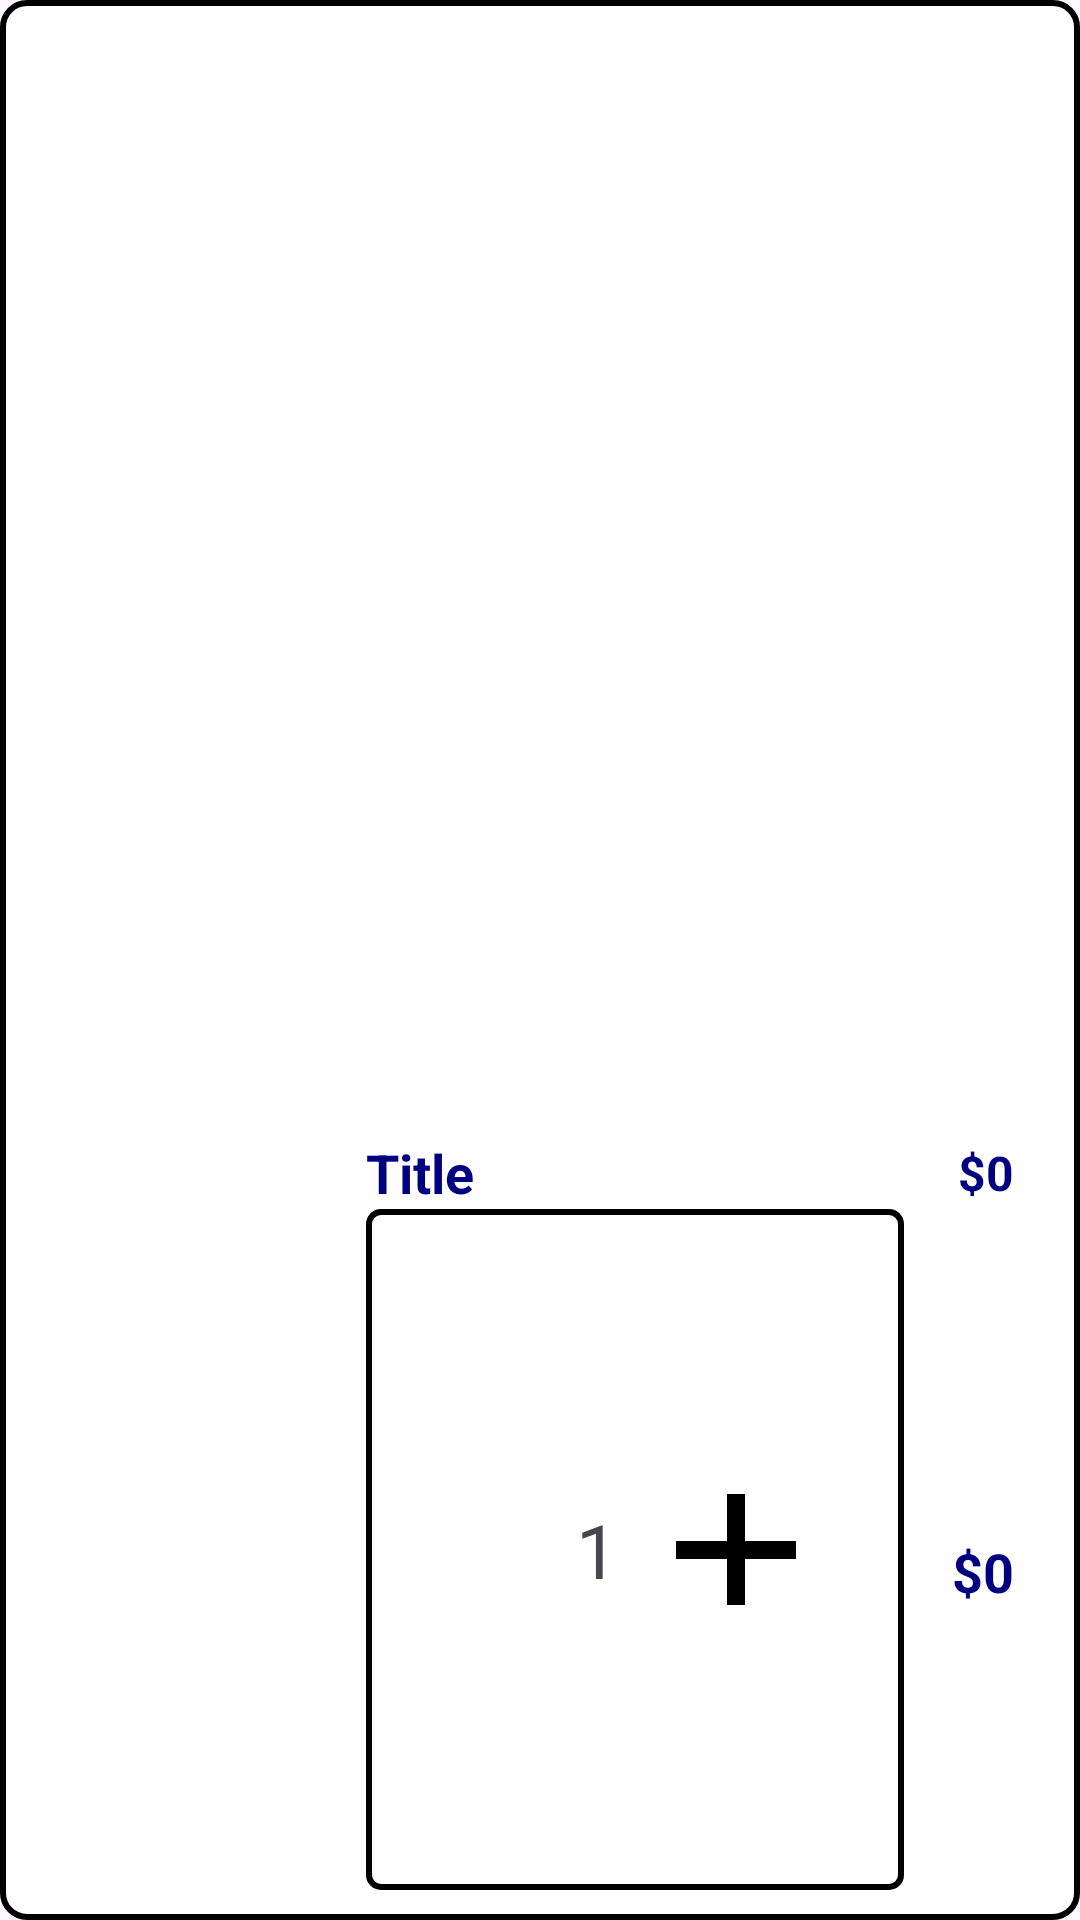

Screen size 1080px x 1920px. Icon name, then its center in pixels as [x,y]:
increment: [736,1549]
